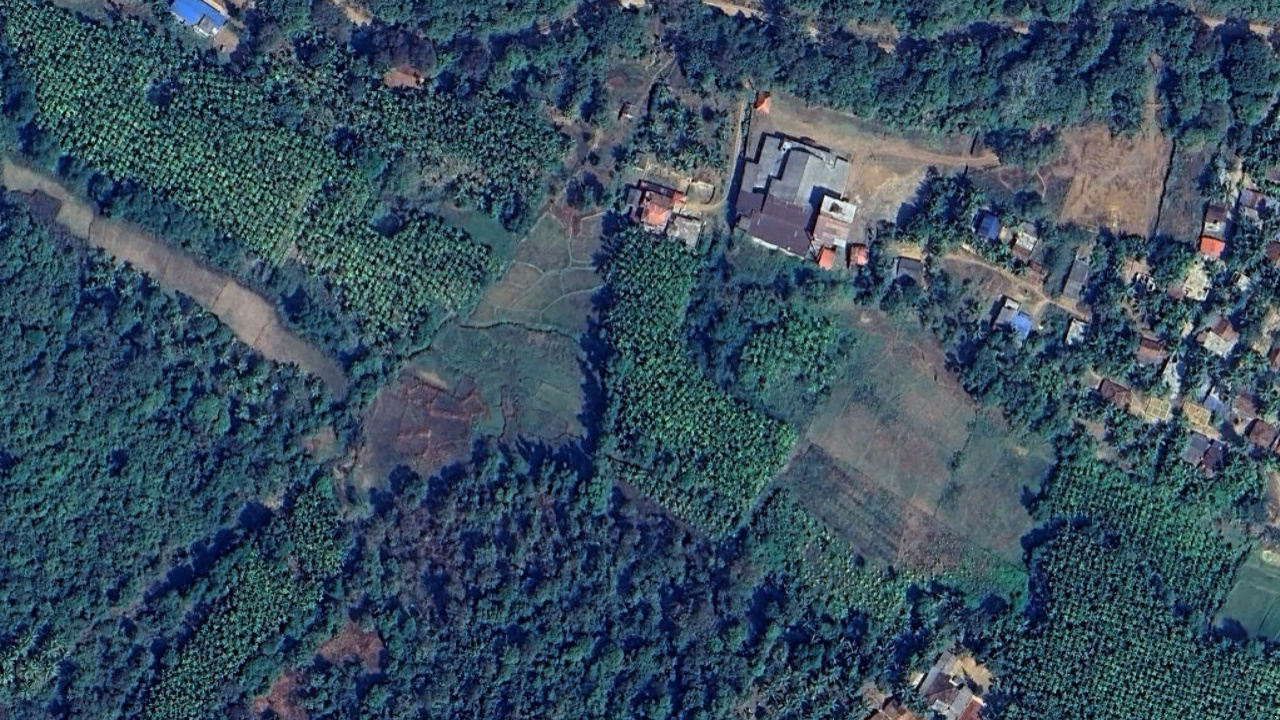arecanut: (5, 1, 502, 347), (998, 452, 1276, 720), (599, 217, 797, 520), (286, 21, 571, 223), (127, 489, 353, 720)
